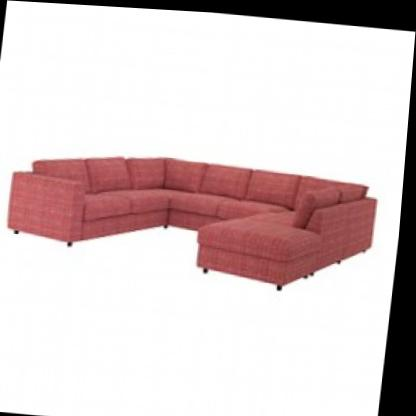Sofa: (0, 104, 389, 309)
